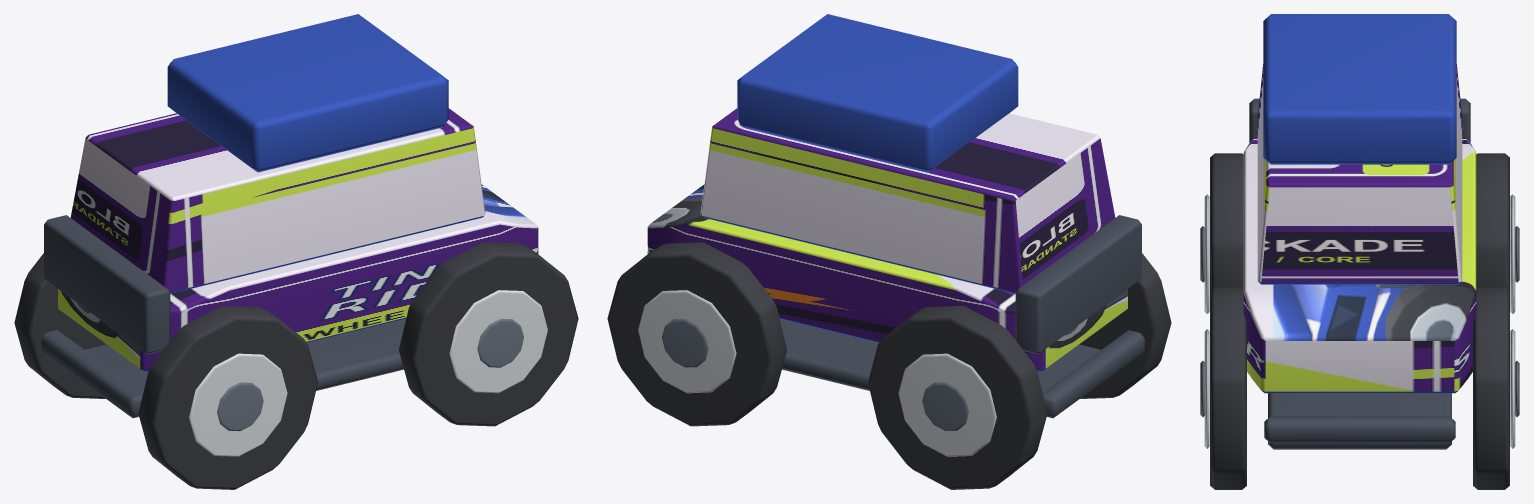
3 views of the same model, side by side, from view 1: azimuth 30°, elevation 25°; view 2: azimuth 150°, elevation 25°; view 3: azimuth 270°, elevation 25° (orthographic). The views are drawn at different scales.
Visible parts, largest first — view 1: BW-02_cabin, armored roof canopy, BW-02_connected_shell, Tire.002, Tire, armored face guard, Rim, Rim.002, underbody, Tire.001, front bumper, Hub.002 (+1 smaller); view 2: BW-02_cabin, armored roof canopy, BW-02_connected_shell, Tire.003, Tire.001, armored face guard, Rim.001, Rim.003, underbody, Tire, front bumper, Hub.003 (+1 smaller); view 3: armored roof canopy, BW-02_connected_shell, BW-02_cabin, Tire.002, Tire.003, underbody, rear bumper, Tire, Tire.001, armored face guard, Rim.002, Rim.003 (+2 smaller).
Boxes of the visible parts, bbox=[...] form: BW-02_cabin: bbox=[70, 108, 485, 293]; armored roof canopy: bbox=[167, 14, 448, 172]; BW-02_connected_shell: bbox=[58, 184, 538, 371]; Tire.002: bbox=[399, 242, 578, 426]; Tire: bbox=[138, 306, 317, 489]; armored face guard: bbox=[44, 215, 170, 354]; Rim: bbox=[189, 353, 287, 456]; Rim.002: bbox=[449, 290, 547, 393]; underbody: bbox=[85, 319, 405, 392]; Tire.001: bbox=[14, 253, 106, 398]; front bumper: bbox=[41, 330, 143, 418]; Hub.002: bbox=[477, 318, 523, 367]; BW-02_cabin: bbox=[700, 108, 1115, 293]; armored roof canopy: bbox=[737, 14, 1018, 172]; BW-02_connected_shell: bbox=[647, 184, 1127, 371]; Tire.003: bbox=[607, 242, 786, 426]; Tire.001: bbox=[868, 306, 1047, 489]; armored face guard: bbox=[1015, 215, 1141, 354]; Rim.001: bbox=[898, 353, 996, 456]; Rim.003: bbox=[638, 290, 736, 393]; underbody: bbox=[780, 319, 1100, 392]; Tire: bbox=[1079, 253, 1171, 398]; front bumper: bbox=[1042, 330, 1144, 418]; Hub.003: bbox=[662, 318, 708, 367]; armored roof canopy: bbox=[1263, 14, 1456, 164]; BW-02_connected_shell: bbox=[1243, 136, 1476, 393]; BW-02_cabin: bbox=[1257, 64, 1462, 284]; Tire.002: bbox=[1210, 288, 1246, 489]; Tire.003: bbox=[1473, 288, 1509, 489]; underbody: bbox=[1268, 393, 1451, 449]; rear bumper: bbox=[1264, 416, 1455, 442]; Tire: bbox=[1210, 153, 1243, 291]; Tire.001: bbox=[1476, 153, 1509, 291]; armored face guard: bbox=[1249, 98, 1470, 142]; Rim.002: bbox=[1204, 329, 1209, 448]; Rim.003: bbox=[1510, 329, 1515, 448].
Bounding box in the file's own units: 368 × 279 × 225.
